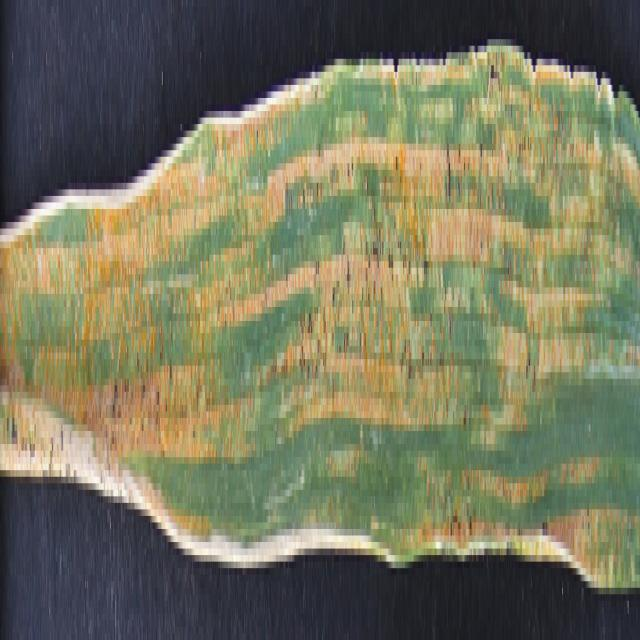leaf rust: (0, 111, 640, 581)
